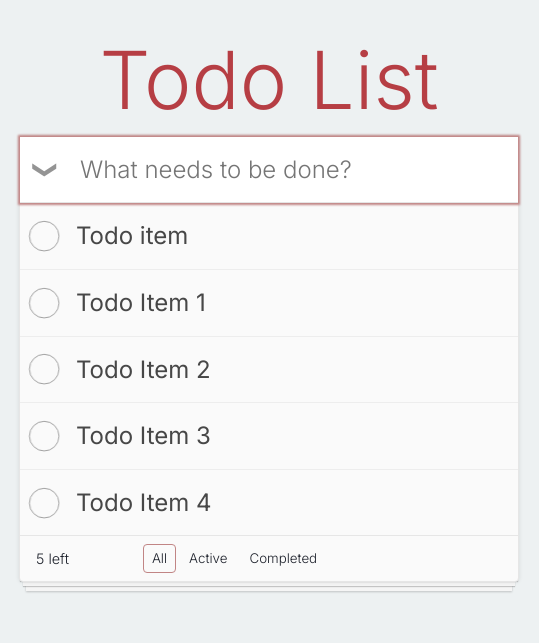
Test: Testing Todos › should allow user to edit todo
This screenshot has width=539, height=643.
Type "to be changed" into the field with placeholder "What needs to be done?".
click(269, 170); type("to be changed")  # box top-left (20, 137), bottom-right (518, 204)
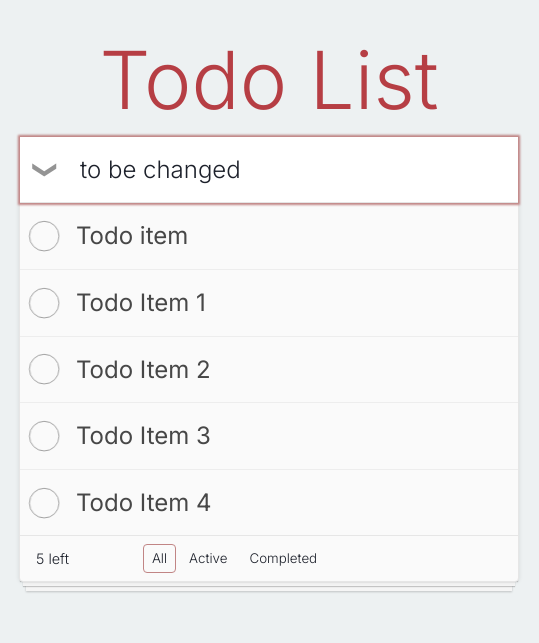
Submit the form from the field with placeholder "What needs to be done?", box top-left (20, 137), bottom-right (518, 204)
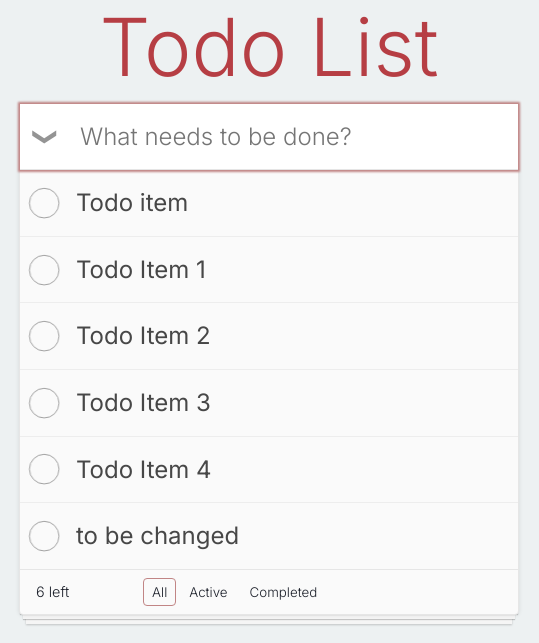
Double-click the text "to be changed".
double_click(158, 536)  # box top-left (76, 521), bottom-right (239, 550)
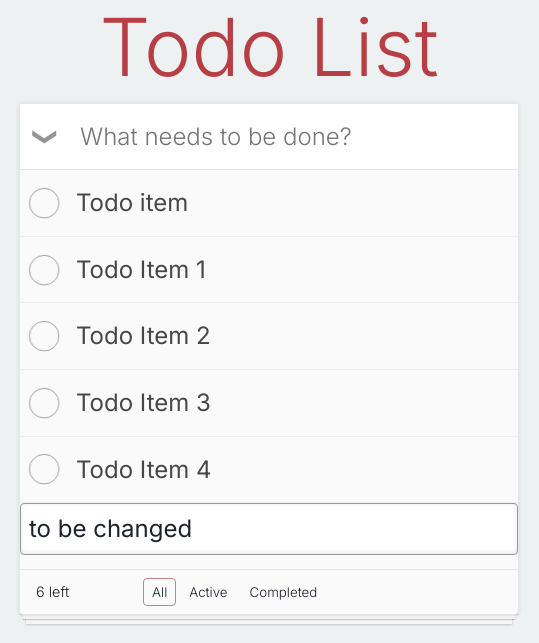
Replace the text in the field with test id "edit" with "changed" at (269, 529), box top-left (20, 503), bottom-right (518, 555)
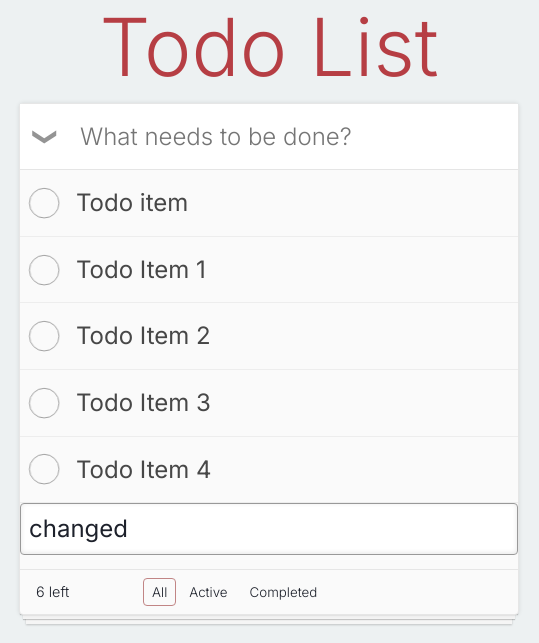
Press Enter in the field with test id "edit", box top-left (20, 503), bottom-right (518, 555)
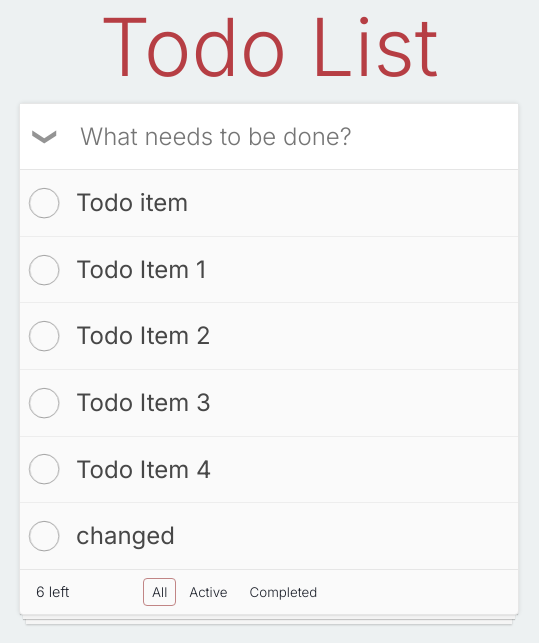
Expected: the text "to be changed" is not shown
Expected: the text "to be changed" is shown, top-left (76, 521), bottom-right (175, 550)
